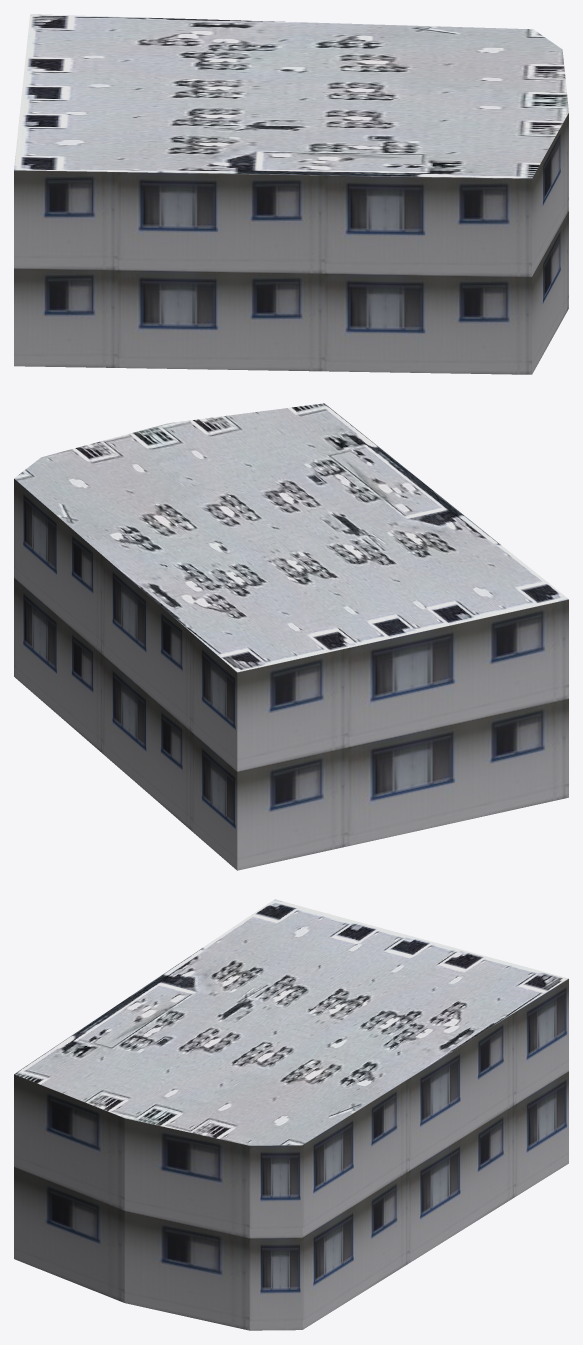
The model's file is ResTex__4003.fbx.
The picture shows the model from 3 angles, top to bottom: view 1: azimuth 30°, elevation 25°; view 2: azimuth 150°, elevation 25°; view 3: azimuth 270°, elevation 25°; orthographic projection. The views are drawn at different scales.
Parts seen in each view (by area): view 1: CityEngineMaterial_9_m, CityEngineMaterial_8_m; view 2: CityEngineMaterial_9_m, CityEngineMaterial_8_m; view 3: CityEngineMaterial_9_m, CityEngineMaterial_8_m.
Boxes of the visible parts, box(x1,y1,x2,y2) form: CityEngineMaterial_9_m: box(14, 113, 568, 374); CityEngineMaterial_8_m: box(14, 14, 568, 178); CityEngineMaterial_9_m: box(14, 479, 568, 870); CityEngineMaterial_8_m: box(14, 403, 568, 672); CityEngineMaterial_9_m: box(14, 979, 568, 1330); CityEngineMaterial_8_m: box(14, 899, 568, 1145).
Size of the model in its own units: 17.14 by 6 by 16.32.
Materials: 2 (2 with a texture image).
